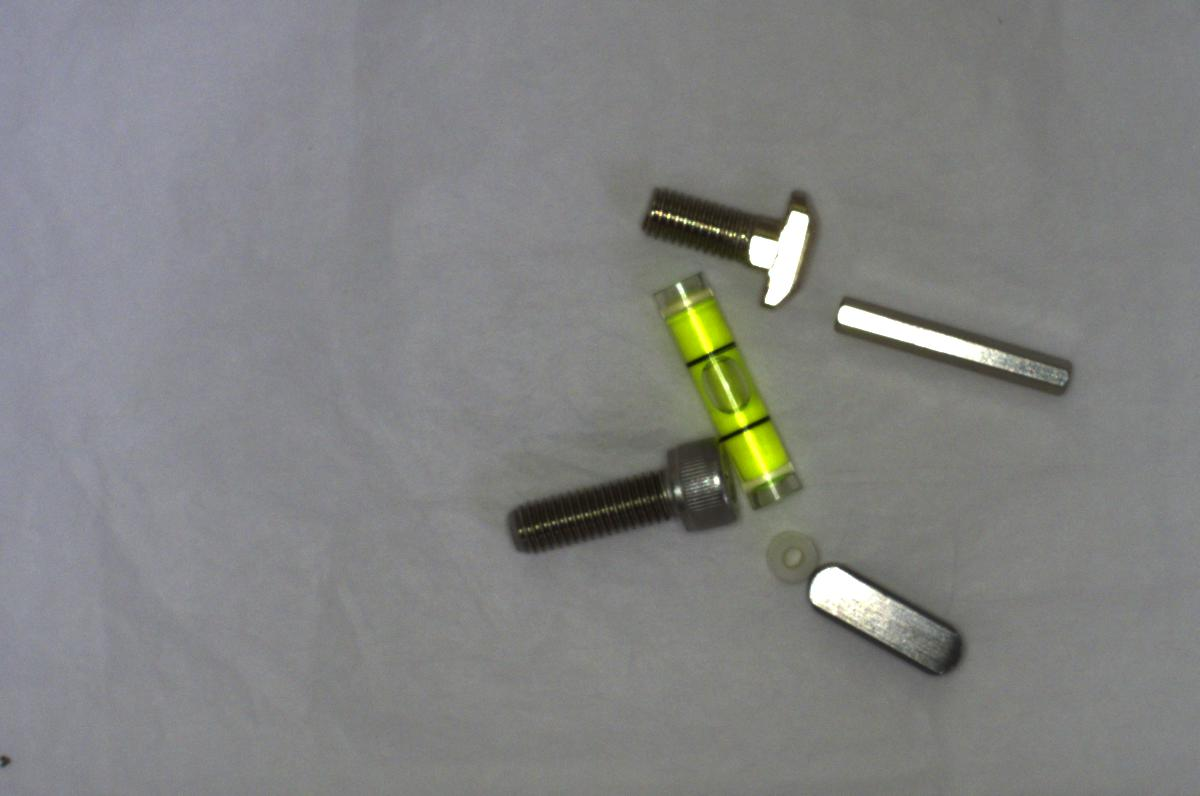Double hexagonal column: (819, 289, 1078, 395)
Hexagon screw: (514, 432, 741, 555)
Horizontal bubble: (642, 262, 806, 508)
Keybar: (799, 560, 972, 681)
Plastic cushion pillar: (764, 518, 825, 585)
T-shaped screw: (618, 175, 826, 308)
